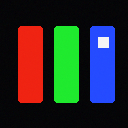1 square: (98, 37, 108, 47)
